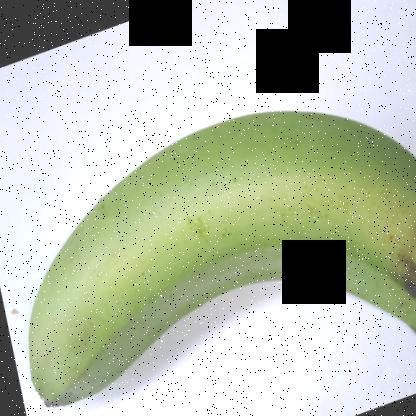freshunripe: (17, 76, 415, 416)
